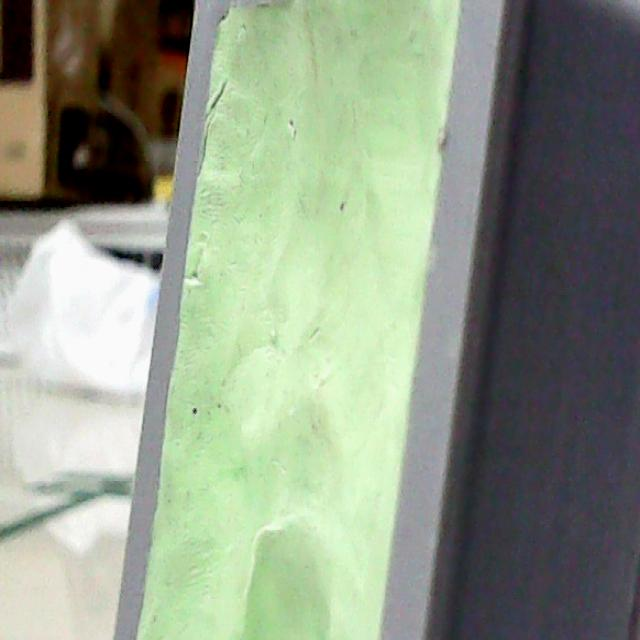block: (93, 0, 640, 640)
